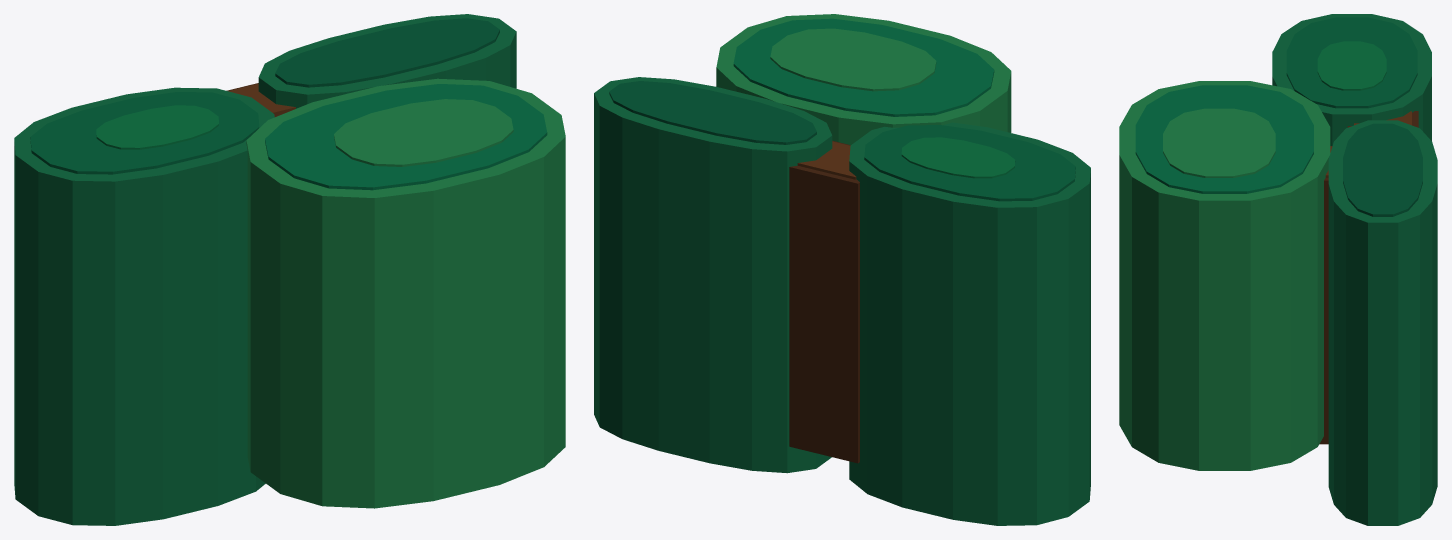
Rendered from bag_cubos_esmeralda.fbx.
3 views of the same model, side by side, from view 1: azimuth 30°, elevation 25°; view 2: azimuth 150°, elevation 25°; view 3: azimuth 270°, elevation 25° (orthographic). The views are drawn at different scales.
Visible parts, largest first — view 1: bag_cubos_esmeralda_mochila; view 2: bag_cubos_esmeralda_mochila; view 3: bag_cubos_esmeralda_mochila.
Boxes of the visible parts, bbox=[...] form: bag_cubos_esmeralda_mochila: bbox=[14, 14, 565, 525]; bag_cubos_esmeralda_mochila: bbox=[594, 14, 1090, 525]; bag_cubos_esmeralda_mochila: bbox=[1119, 14, 1437, 525].
Bounding box in the file's own units: 2.76 × 1.87 × 1.75.
1 material, 1 textured.
